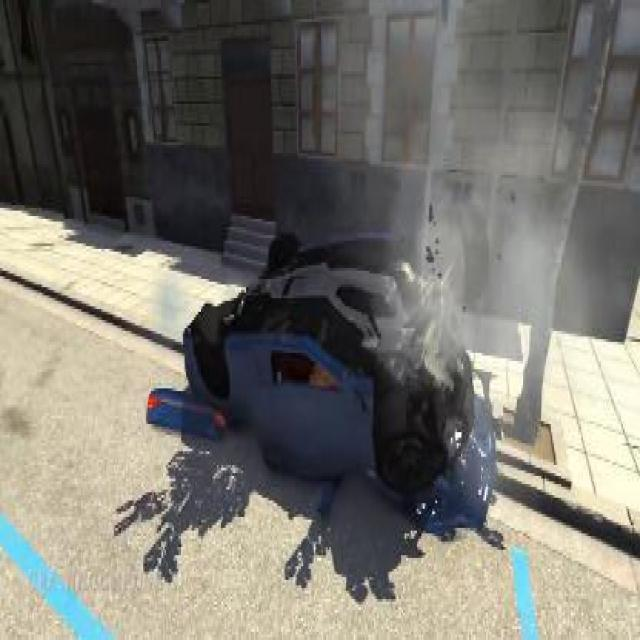accident: (178, 216, 488, 531)
